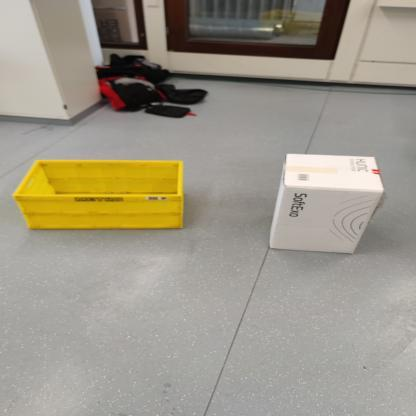-: (261, 139, 394, 273), (6, 156, 203, 241)
